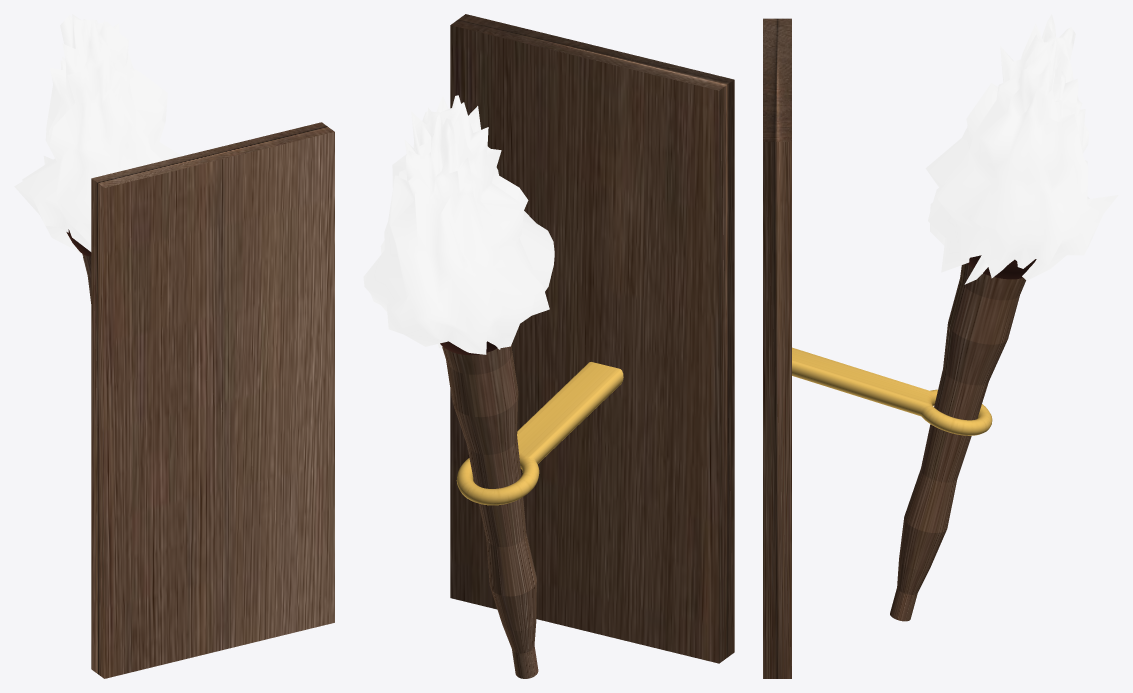
File: Obor lotnok 2.glb
3 renders of one model, left to right at view 1: azimuth 30°, elevation 25°; view 2: azimuth 150°, elevation 25°; view 3: azimuth 270°, elevation 25°, orthographic. The views are drawn at different scales.
Parts seen in each view (by area): view 1: Cube, Sphere; view 2: Cube, Sphere, Cylinder, Torus; view 3: Sphere, Cube, Cylinder, Torus, Sphere.001.
Part boxes in pixels (<box>): Cube: <box>91,122,334,678</box>; Sphere: <box>14,14,182,256</box>; Cube: <box>450,14,734,663</box>; Sphere: <box>363,95,554,354</box>; Cylinder: <box>442,344,538,678</box>; Torus: <box>456,362,623,505</box>; Sphere: <box>925,14,1118,284</box>; Cube: <box>763,18,791,678</box>; Cylinder: <box>890,263,1025,621</box>; Torus: <box>792,347,992,435</box>; Sphere.001: <box>967,255,1036,279</box>.
Bounding box in the file's own units: 9.3 × 21.03 × 11.37.
5 materials, 3 textured.
